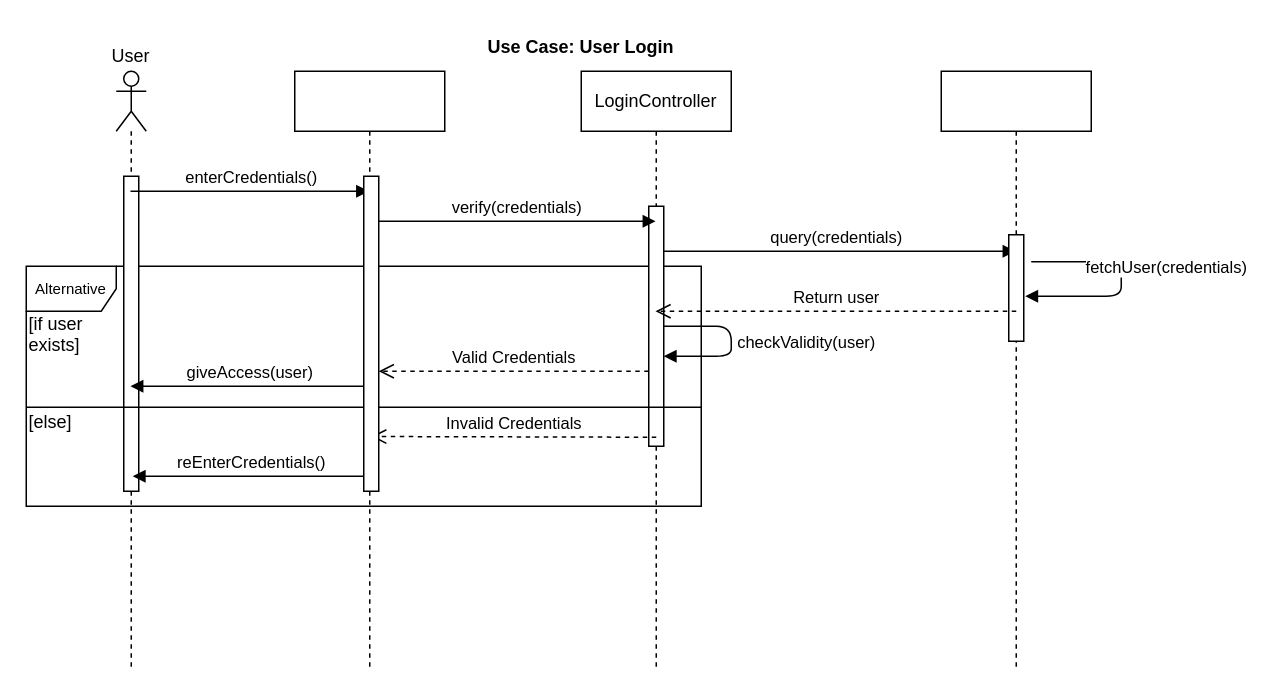
This 1274x698 diagram has some shape labels left out. The box of each missing label's shape, as (x1, y1, x2, y2) in pixels:
Database: (940, 70, 1091, 671)
Login View: (293, 70, 445, 671)
